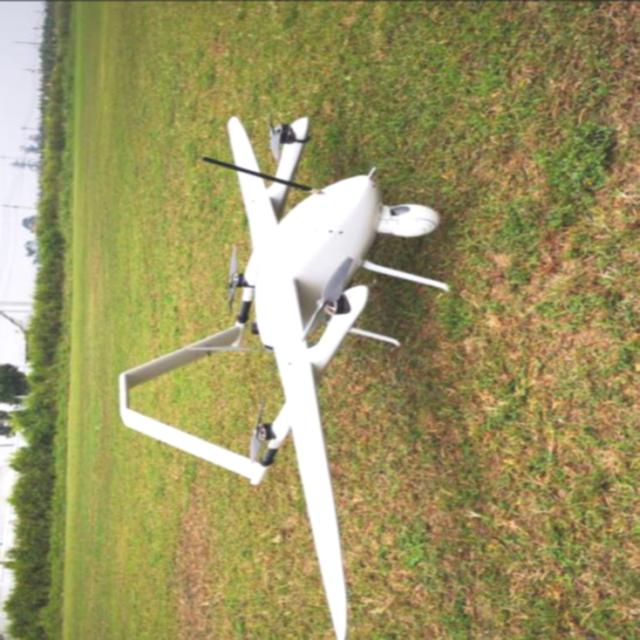plane: (116, 113, 451, 640)
